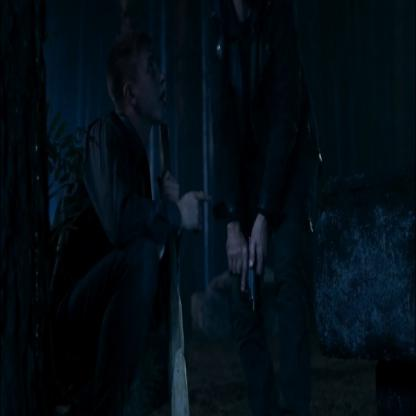Gun: (228, 233, 261, 316)
